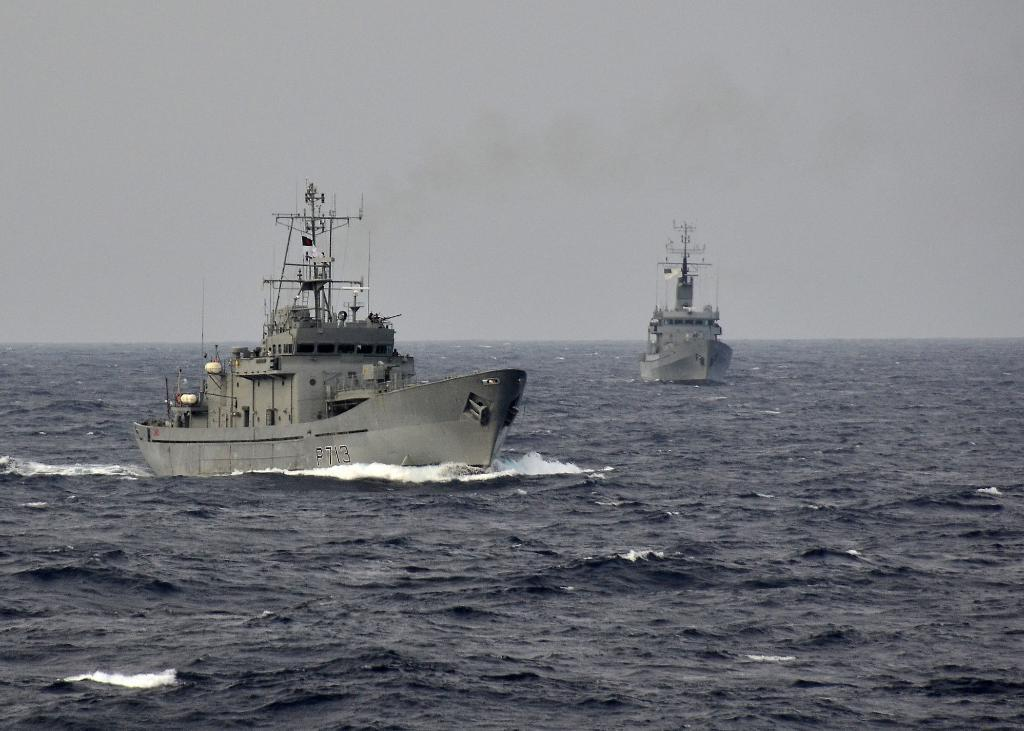Warship: (132, 176, 534, 478), (633, 233, 745, 389)
